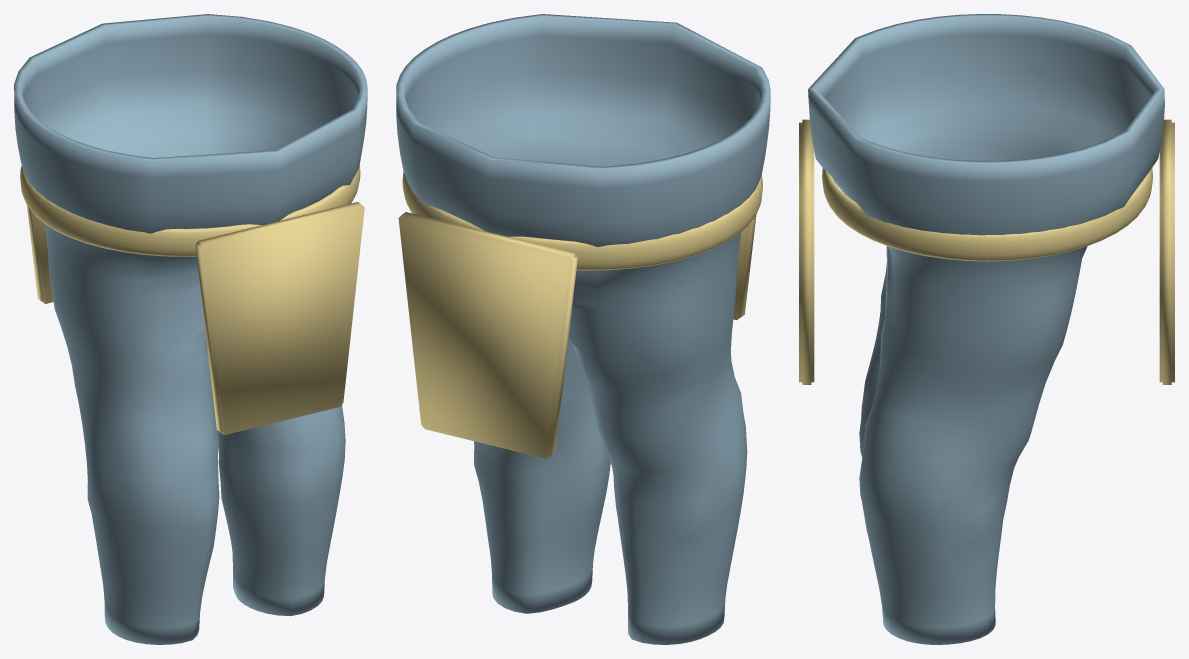
File: Pants.fbx
The picture shows the model from 3 angles, left to right: view 1: azimuth 30°, elevation 25°; view 2: azimuth 150°, elevation 25°; view 3: azimuth 270°, elevation 25°; orthographic projection. The views are drawn at different scales.
Visible parts, largest first — view 1: CostumeLegs; view 2: CostumeLegs; view 3: CostumeLegs.
Boxes of the visible parts, box(x1,y1,x2,y2) form: CostumeLegs: box(14, 14, 367, 644); CostumeLegs: box(396, 14, 770, 644); CostumeLegs: box(799, 14, 1174, 644).
Bounding box in the file's own units: 0.5543 × 0.8709 × 0.5858.
